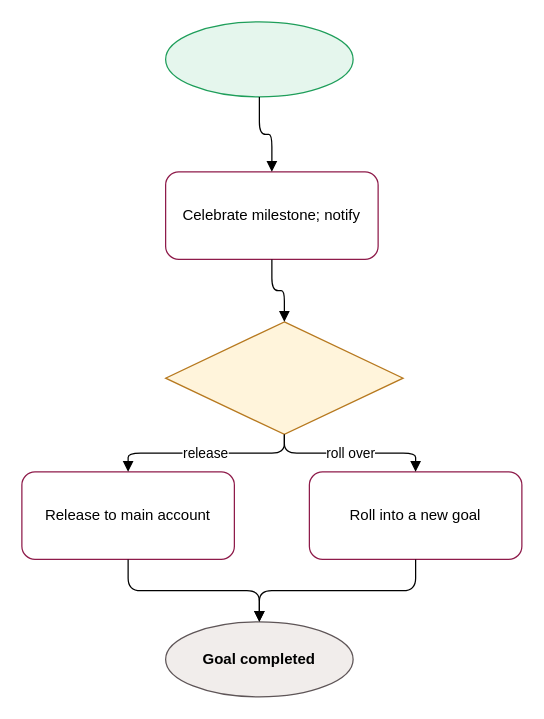
The diagram is 544 pixels wide and 719 high, and some of its shapes have lost their labels. Each missing label, with the centre of its shape:
"Customer choice or default" goes at (283,377).
"Date reached or target met" goes at (258,59).
